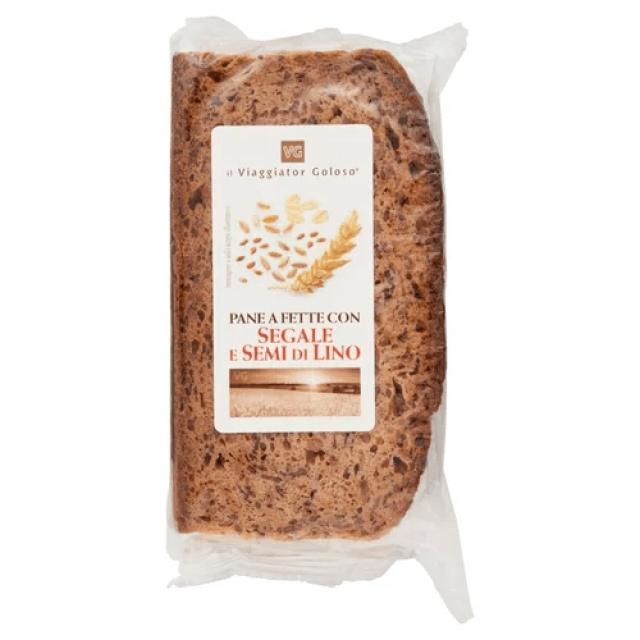Bread loaf: (166, 15, 474, 623)
